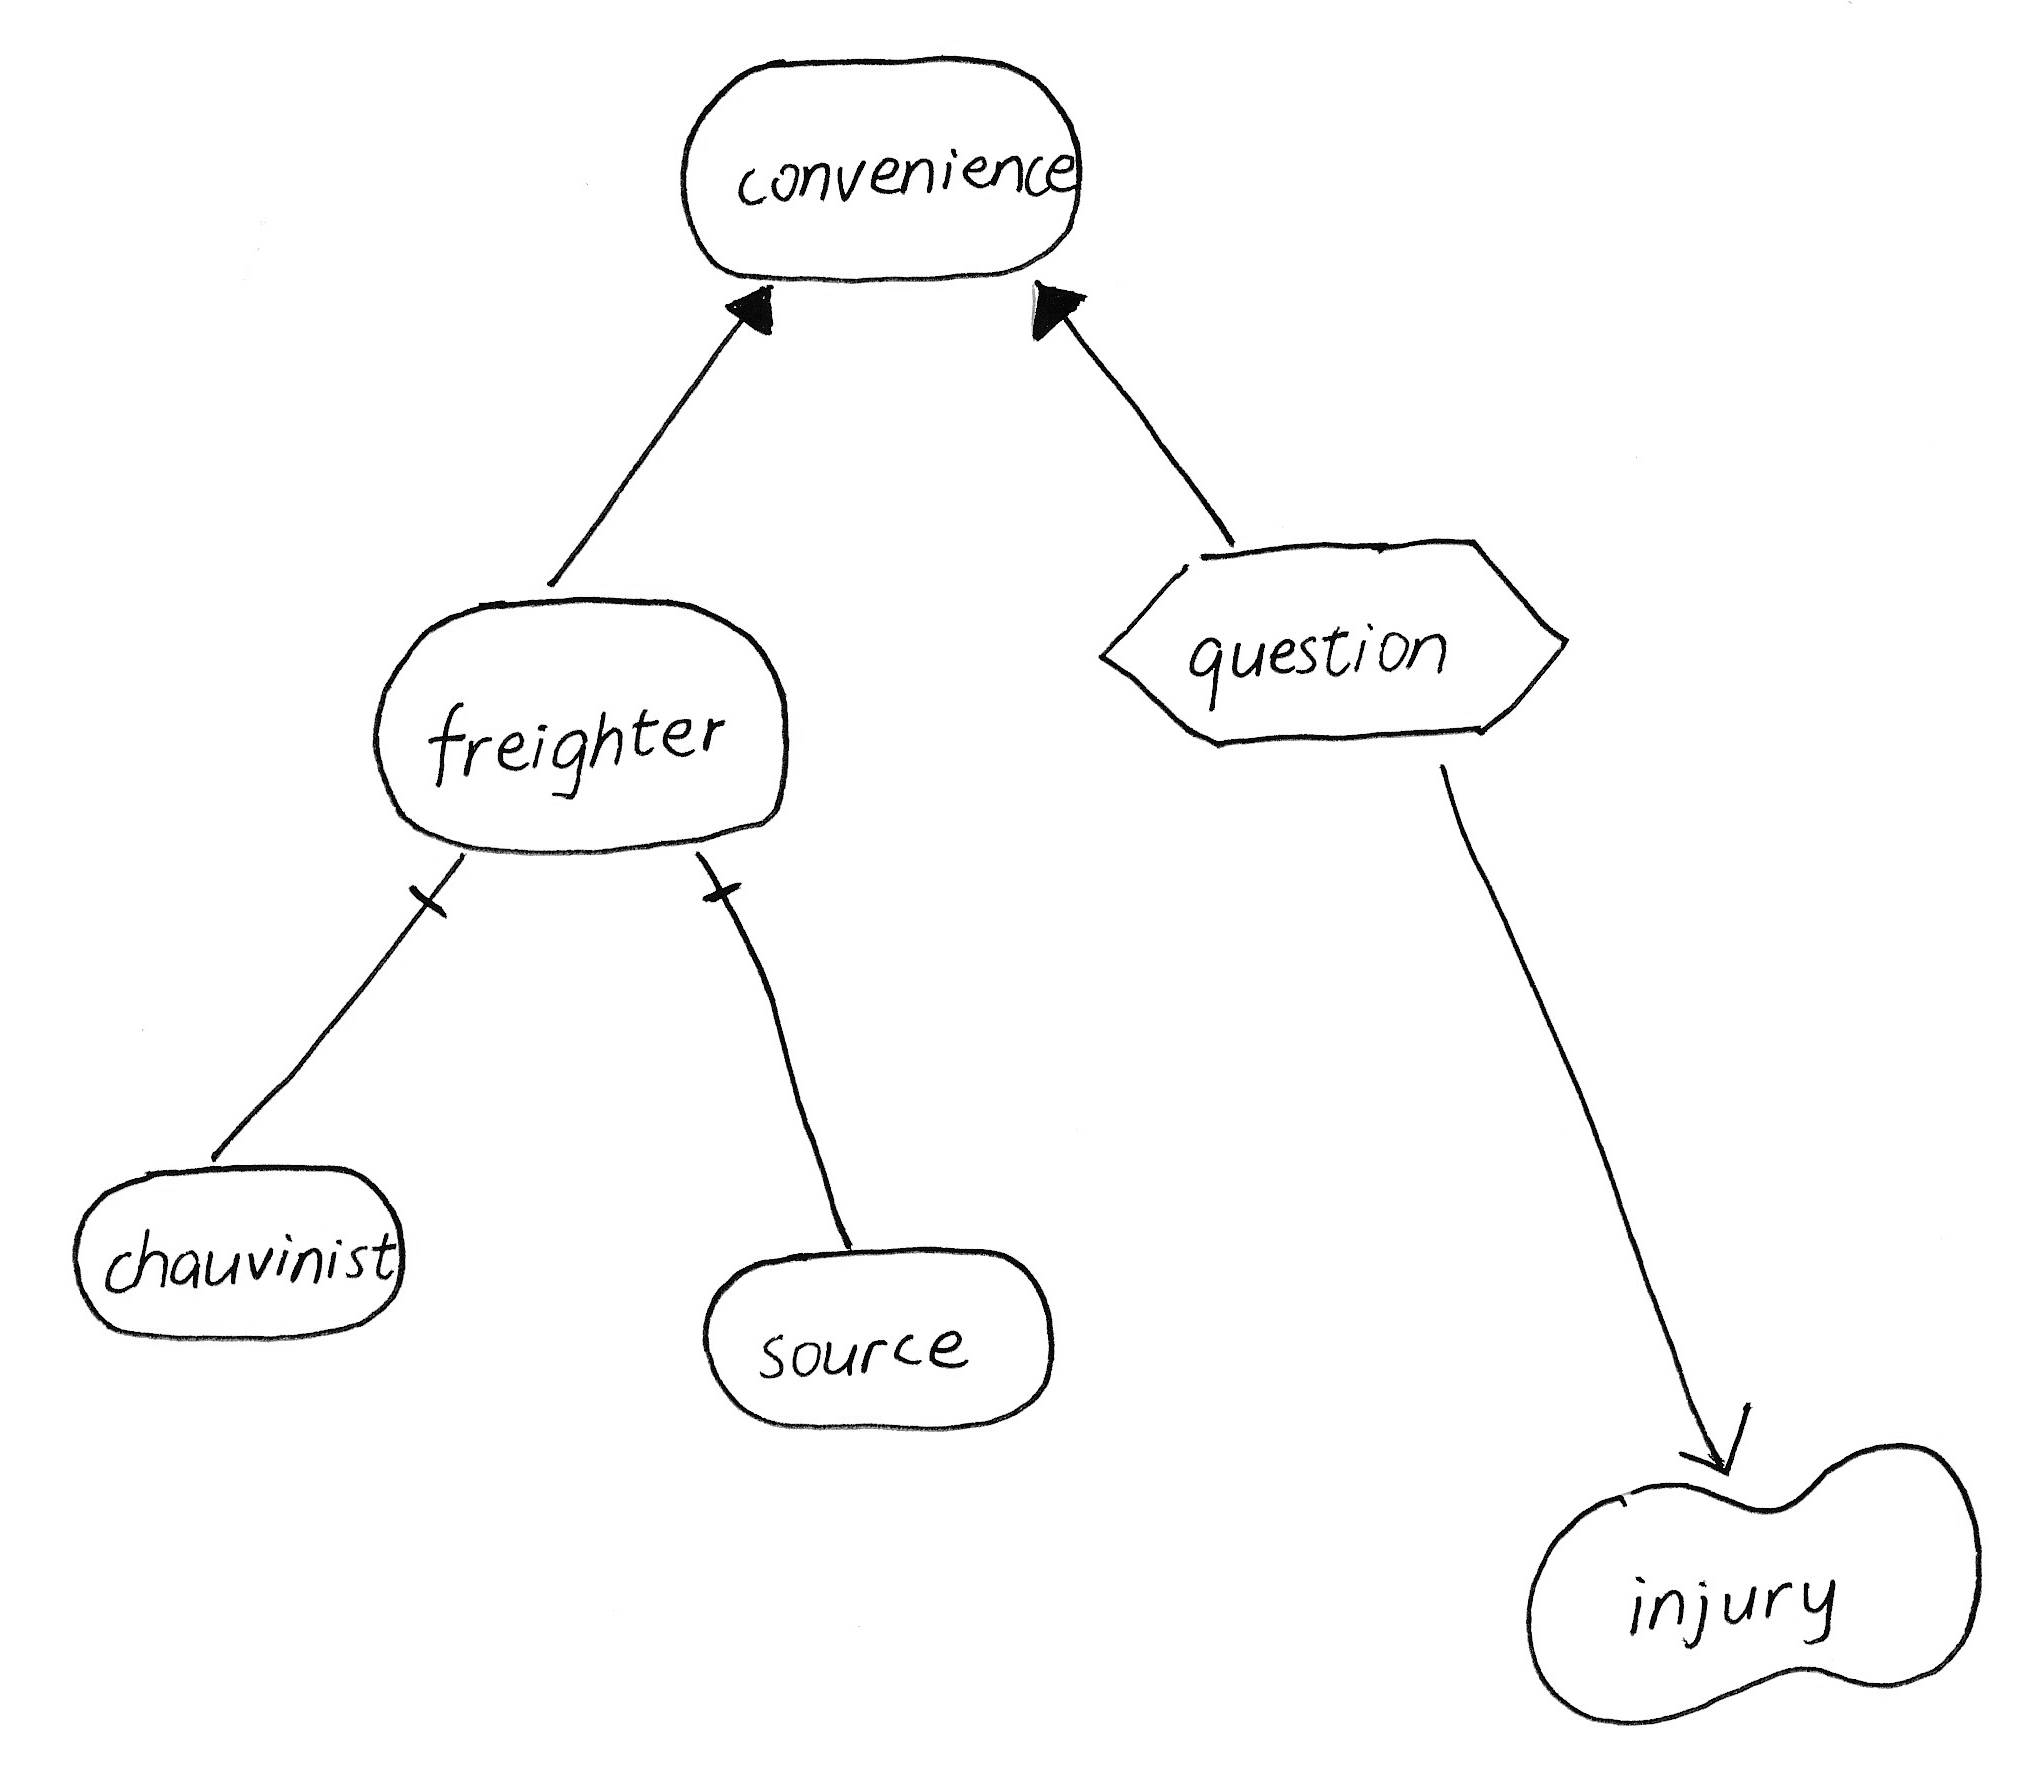and: (682, 844, 752, 929), (405, 839, 468, 932)
arrow: (1672, 1395, 1762, 1485)
goal: (355, 573, 812, 873), (662, 38, 1100, 301), (679, 1227, 1077, 1447), (61, 1138, 428, 1357)
or: (1020, 269, 1102, 353), (714, 270, 790, 345)
quality: (1502, 1424, 2002, 1736)
task: (1076, 515, 1590, 759)
